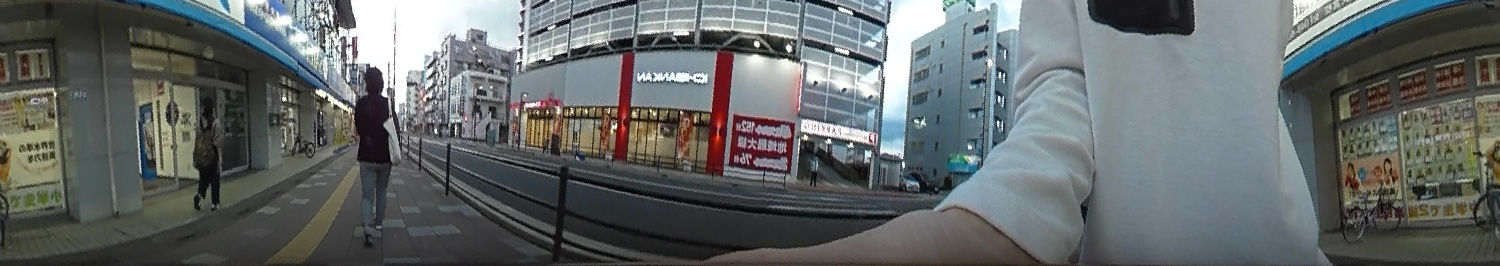difficult_person: (807, 153, 820, 188)
person: (345, 62, 401, 249), (192, 92, 227, 215)
